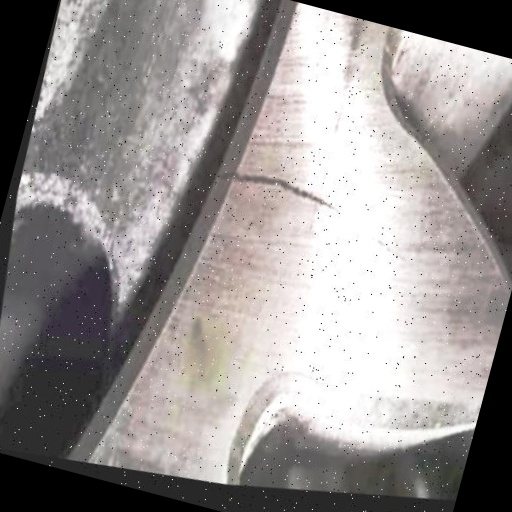crack: (192, 111, 446, 312)
